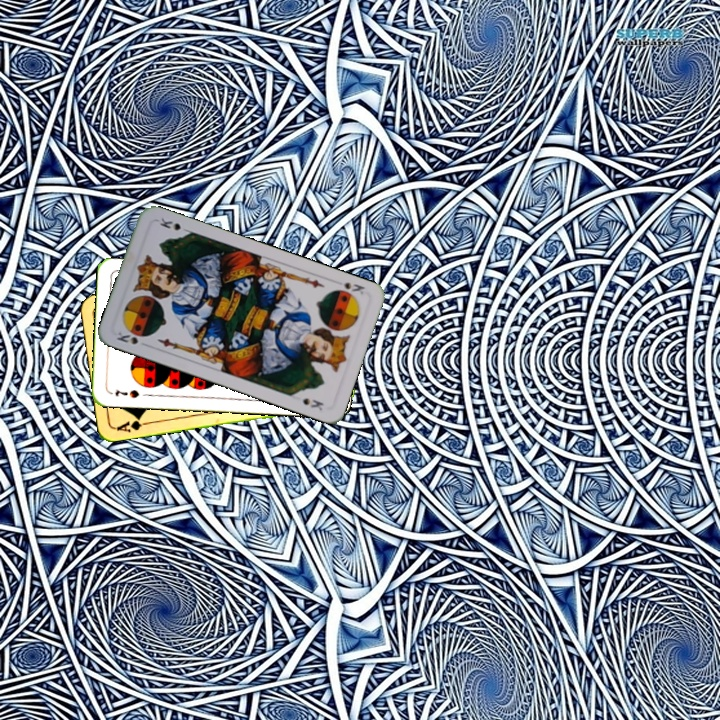GA: (113, 413, 152, 435)
S7: (111, 385, 141, 401)
SK: (112, 327, 151, 349), (339, 278, 367, 297)
